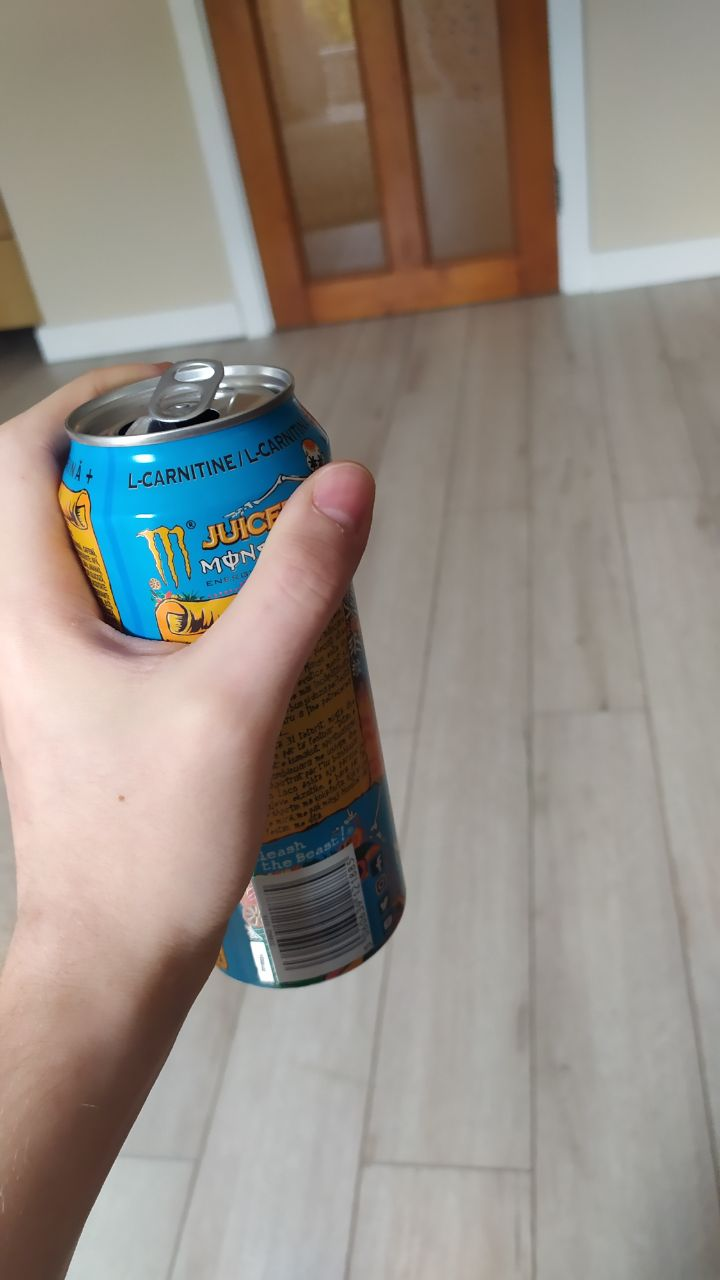Can: (52, 351, 421, 984)
